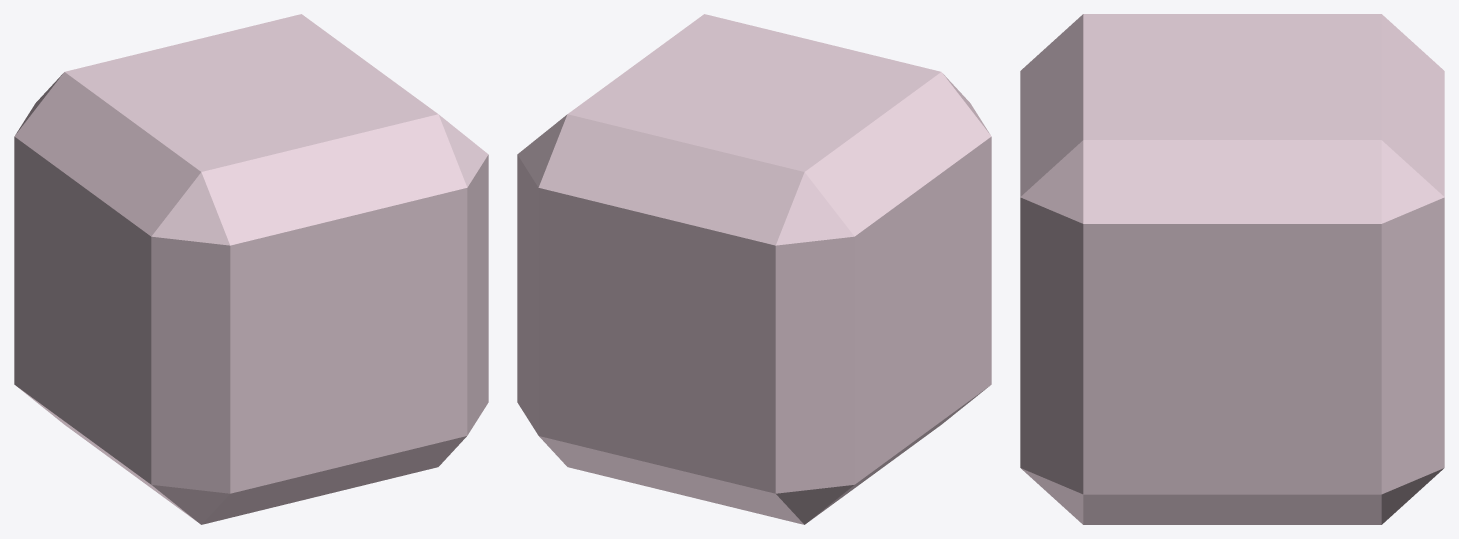
The model's file is beveled_cube_pink.glb.
3 views of the same model, side by side, from view 1: azimuth 30°, elevation 25°; view 2: azimuth 150°, elevation 25°; view 3: azimuth 270°, elevation 25° (orthographic). The views are drawn at different scales.
Parts seen in each view (by area): view 1: Cube; view 2: Cube; view 3: Cube.
Part boxes in pixels (<box>): Cube: <box>14,14,488,524</box>; Cube: <box>517,14,991,524</box>; Cube: <box>1020,14,1444,524</box>.
Size of the model in its own units: 0.6232 by 0.6232 by 0.6232.
